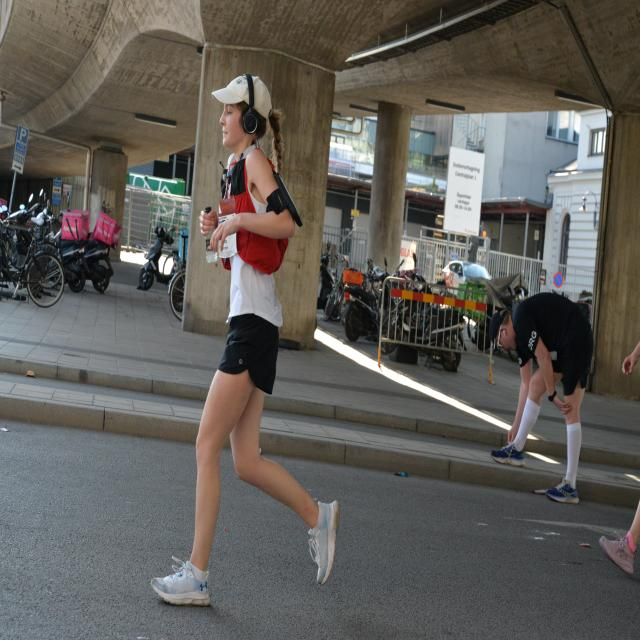runner-detect: (144, 65, 358, 619)
